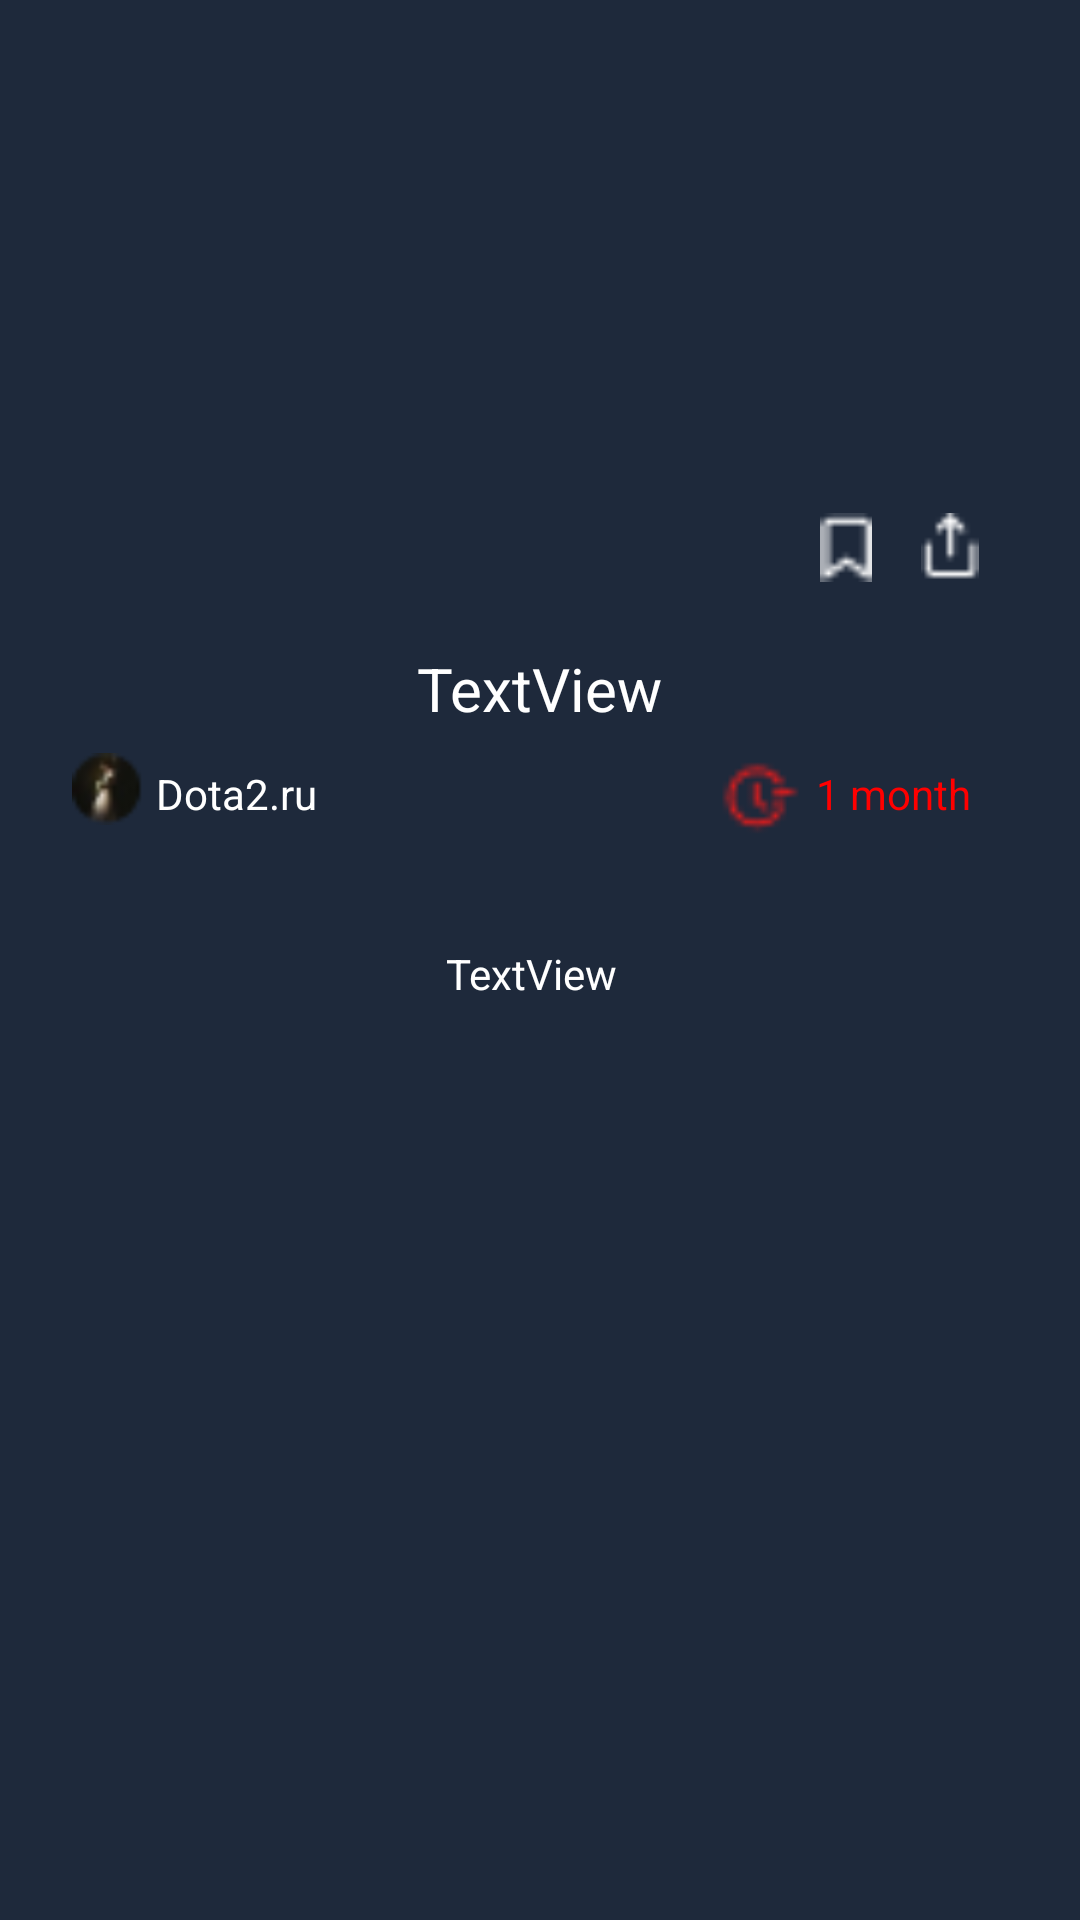

Locate icon controls on the screen. Image size 1080w x 1920h, boxes as BBox(x1, y1, x2, y2).
bookmark: BBox(820, 513, 872, 582)
share: BBox(921, 513, 979, 579)
time: BBox(723, 763, 798, 830)
